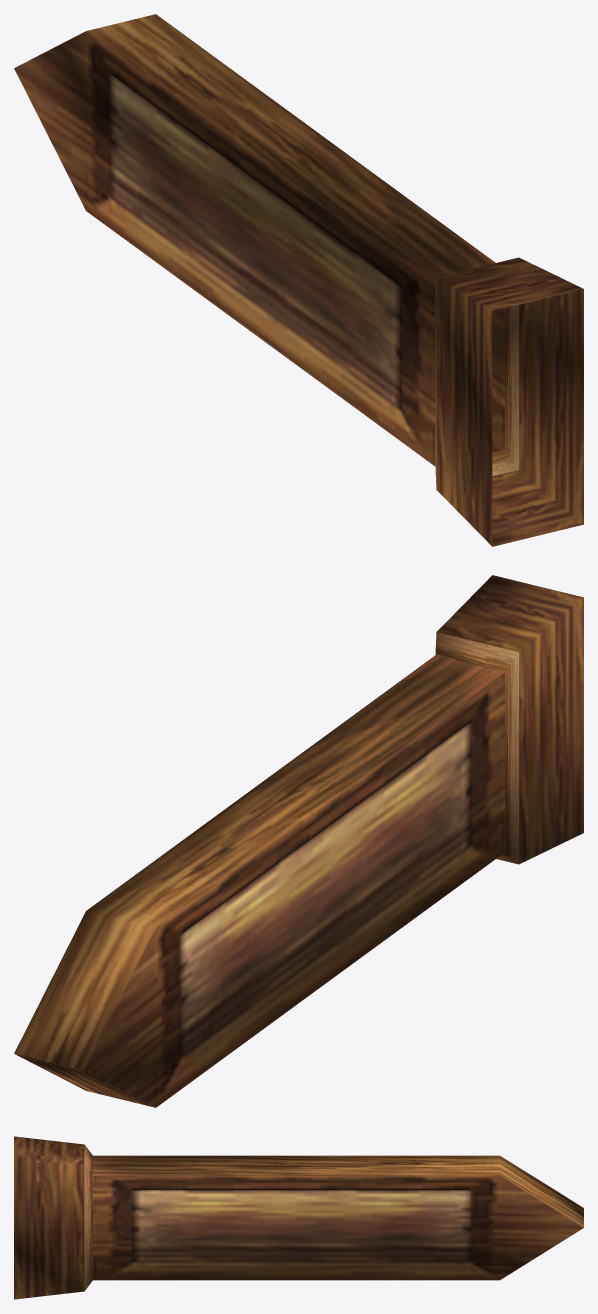
The model's file is woodsignpointernice01.obj.
The picture shows the model from 3 angles, top to bottom: view 1: azimuth 30°, elevation 25°; view 2: azimuth 150°, elevation 25°; view 3: azimuth 270°, elevation 25°; orthographic projection. The views are drawn at different scales.
Parts seen in each view (by area): view 1: woodsignpointernice01; view 2: woodsignpointernice01; view 3: woodsignpointernice01.
Part boxes in pixels (x1,y1,x2,y2): woodsignpointernice01: [14, 14, 583, 546]; woodsignpointernice01: [14, 575, 583, 1107]; woodsignpointernice01: [14, 1136, 583, 1299].
Bounding box in the file's own units: 0.1806 × 0.4442 × 1.67.
1 material, 1 textured.
